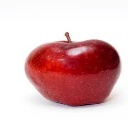apple: (23, 39, 122, 106)
